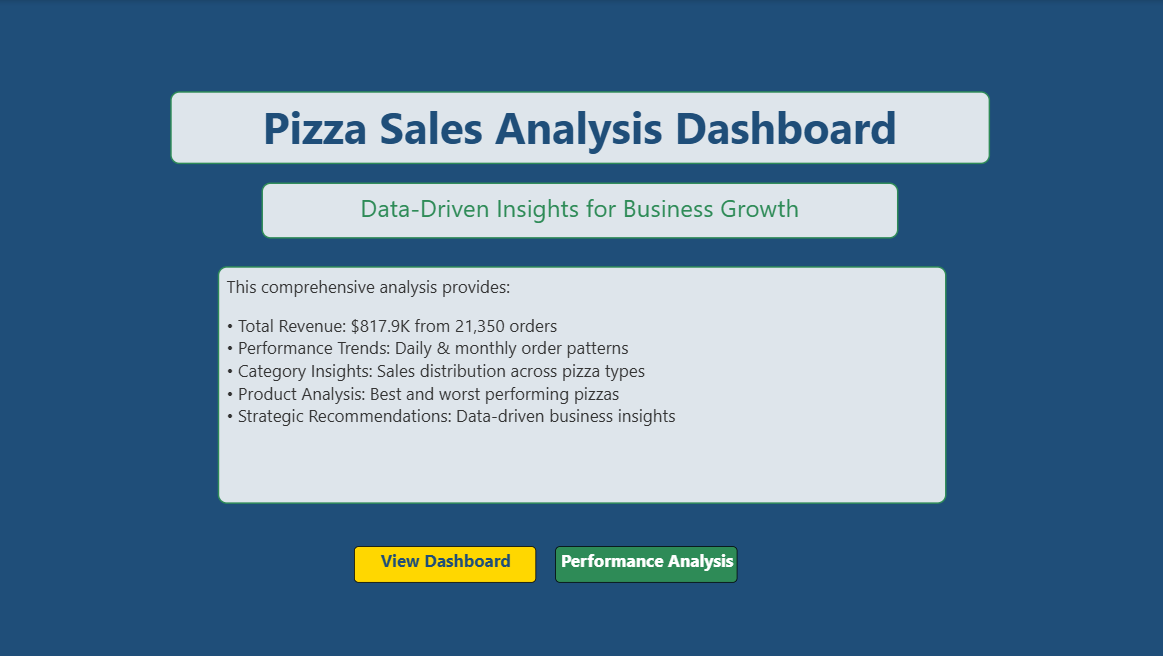

Layout of this report page (visuals, bound fields, positions):
{"tool":"powerbi","page":{"name":"Title Page","canvas":[1280,720],"ordinal":0},"visuals":[{"type":"textbox","box":[188,100,900,80],"z":0},{"type":"textbox","box":[287.7,200.9,699.6,61.3],"z":1000},{"type":"textbox","box":[240,292.8,800,260.4],"z":2000},{"type":"actionButton","title":"View Dashboard","box":[390,600,200,40],"z":3000},{"type":"actionButton","title":"Performance Analysis","box":[610,600,200,40],"z":4000}]}

Visuals, with their boxes in screenshot pixels (x1, y1, x2, y2), scaled from the page's 1280x720 canvas onto the 1163x656 screenshot:
textbox: [171,91,989,164]
textbox: [261,183,897,239]
textbox: [218,267,945,504]
"View Dashboard" actionButton: [354,547,536,583]
"Performance Analysis" actionButton: [554,547,736,583]
